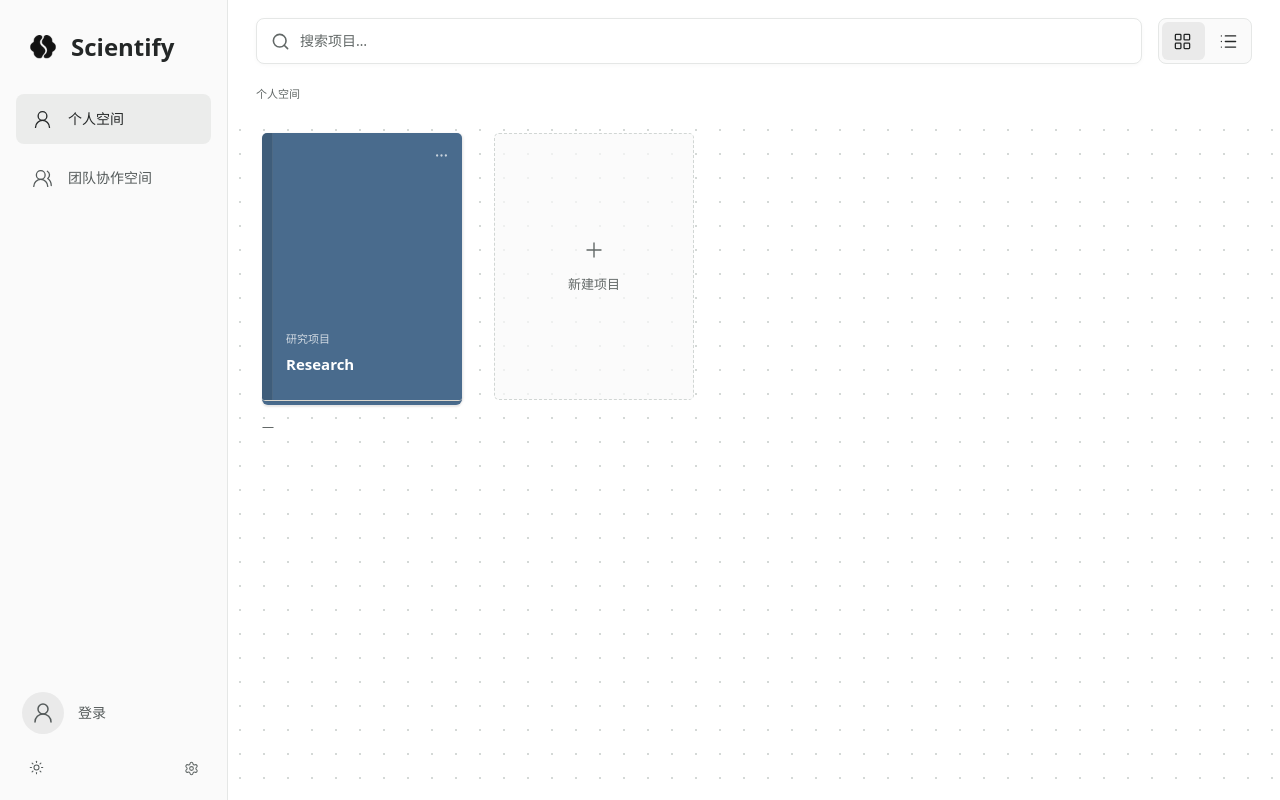
Scenario: preserves manager access when workspace creation fails
Click the button "研究项目 Research" at (362, 266), box x1=262 y1=133 x2=462 y2=400
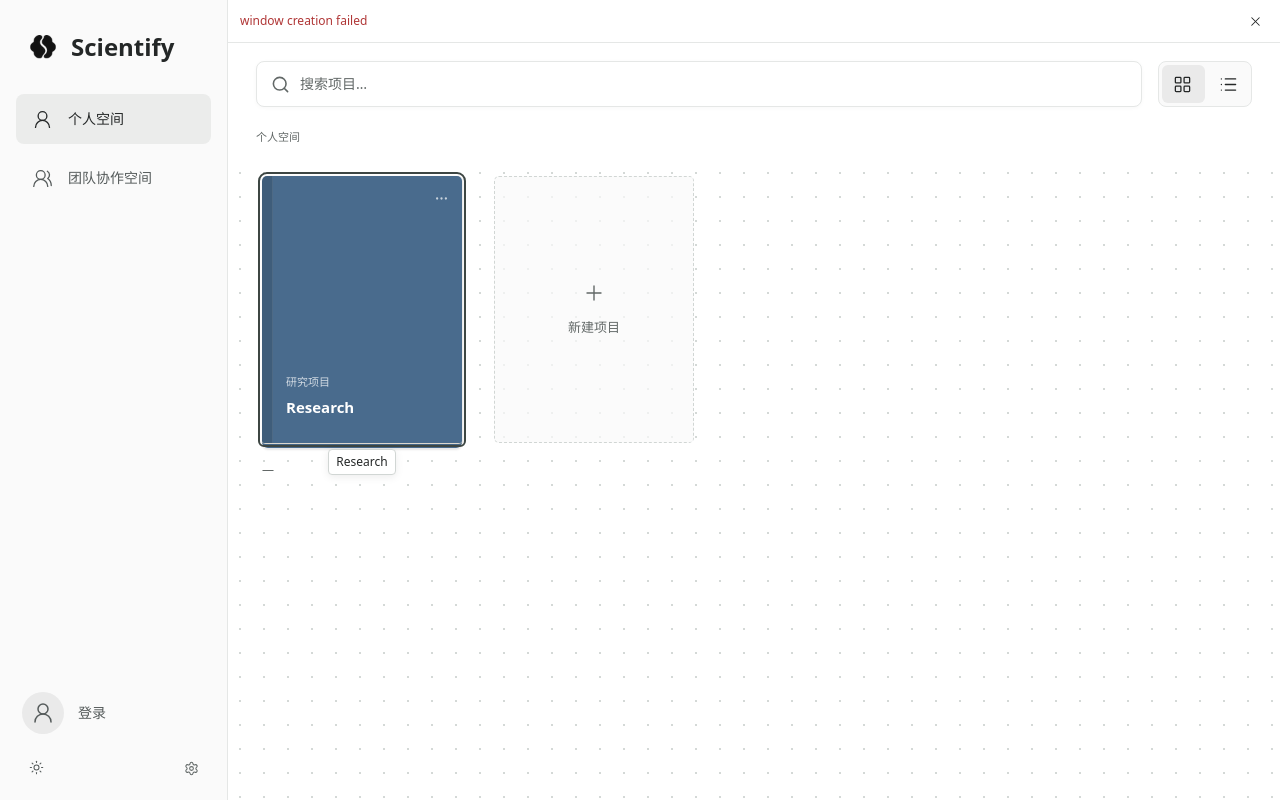
Check: the text "window creation failed" is shown, box x1=240 y1=12 x2=367 y2=29
